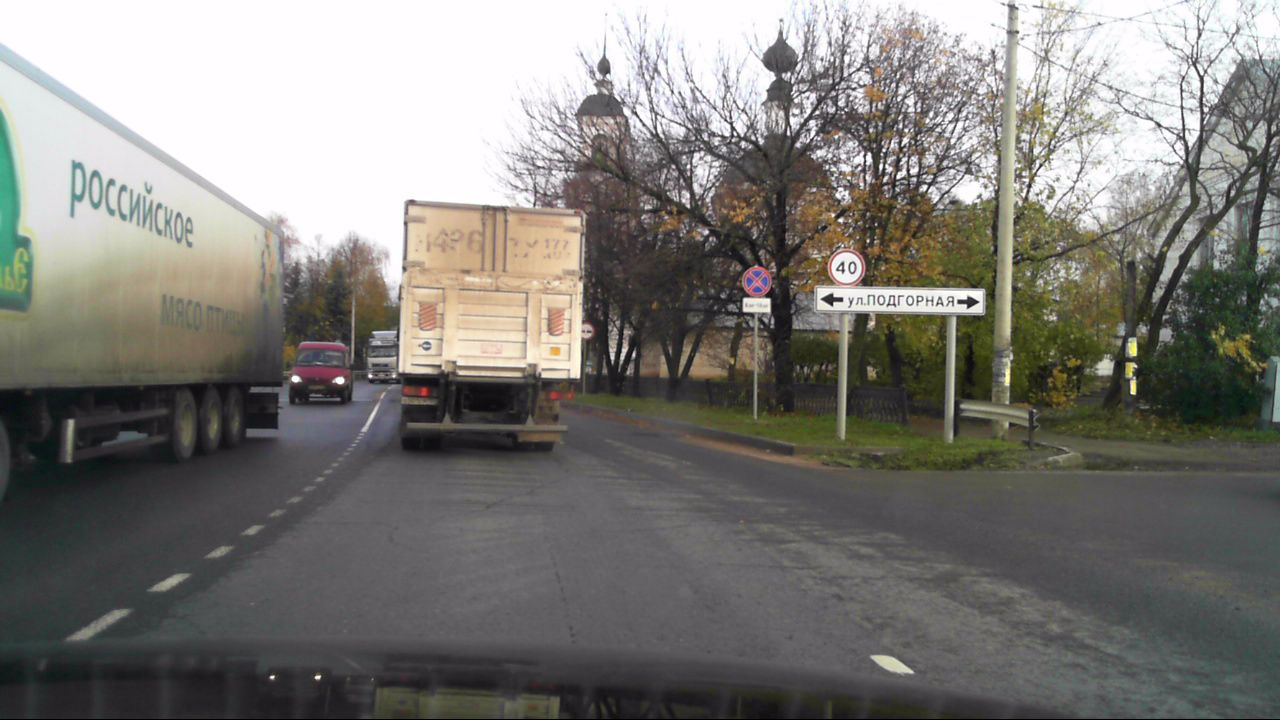No Parking: (740, 265, 771, 296)
speed_warning_40: (826, 248, 866, 287)
